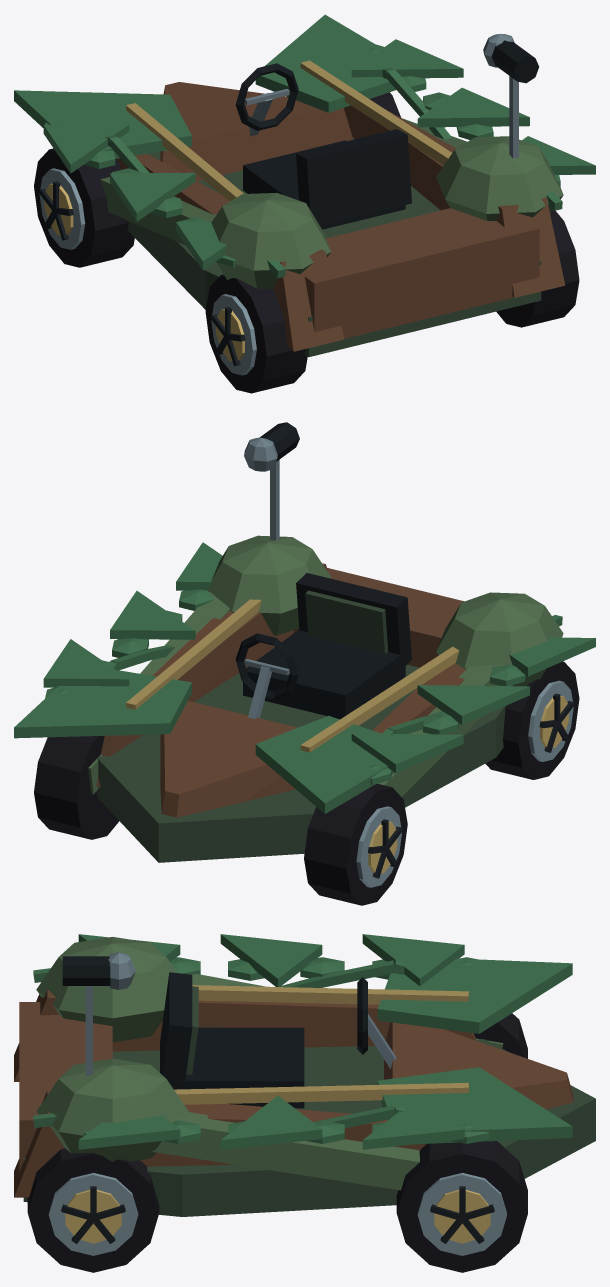
Rendered from kart.glb.
3 views of the same model, one above another, from view 1: azimuth 30°, elevation 25°; view 2: azimuth 150°, elevation 25°; view 3: azimuth 270°, elevation 25° (orthographic). The views are drawn at different scales.
Parts seen in each view (by area): view 1: identity-nature-nature-root-cradle-and-leaf-bow, identity-nature-driver-cockpit, identity-nature-motif-leaves, wheel-rear-left, wheel-front-left, identity-nature-motif-vines, wheel-rear-right, identity-nature-motif-microphone; view 2: identity-nature-nature-root-cradle-and-leaf-bow, identity-nature-driver-cockpit, identity-nature-motif-leaves, wheel-front-left, wheel-rear-left, wheel-front-right, identity-nature-motif-vines, identity-nature-motif-microphone; view 3: identity-nature-nature-root-cradle-and-leaf-bow, identity-nature-motif-leaves, wheel-front-right, wheel-rear-right, identity-nature-driver-cockpit, identity-nature-motif-vines, identity-nature-motif-microphone, wheel-front-left.
Boxes of the visible parts, left/top/right/bottom form: identity-nature-nature-root-cradle-and-leaf-bow: left=14, top=14, right=565, bottom=356; identity-nature-driver-cockpit: left=235, top=63, right=411, bottom=229; identity-nature-motif-leaves: left=43, top=39, right=595, bottom=269; wheel-rear-left: left=205, top=274, right=307, bottom=393; wheel-front-left: left=34, top=148, right=134, bottom=267; identity-nature-motif-vines: left=45, top=44, right=562, bottom=278; wheel-rear-right: left=496, top=210, right=579, bottom=327; identity-nature-motif-microphone: left=483, top=33, right=538, bottom=158; identity-nature-nature-root-cradle-and-leaf-bow: left=14, top=535, right=563, bottom=862; identity-nature-driver-cockpit: left=235, top=573, right=411, bottom=719; identity-nature-motif-leaves: left=43, top=542, right=595, bottom=772; wheel-front-left: left=304, top=783, right=407, bottom=905; wheel-rear-left: left=485, top=661, right=579, bottom=779; wheel-front-right: left=34, top=735, right=119, bottom=839; identity-nature-motif-vines: left=45, top=589, right=562, bottom=785; identity-nature-motif-microphone: left=244, top=422, right=299, bottom=540; identity-nature-nature-root-cradle-and-leaf-bow: left=14, top=937, right=595, bottom=1216; identity-nature-motif-leaves: left=78, top=934, right=464, bottom=1149; wheel-front-right: left=396, top=1141, right=527, bottom=1272; wheel-rear-right: left=27, top=1148, right=159, bottom=1272; identity-nature-driver-cockpit: left=160, top=972, right=395, bottom=1108; identity-nature-motif-vines: left=33, top=957, right=488, bottom=1143; identity-nature-motif-microphone: left=62, top=952, right=135, bottom=1076; wheel-front-left: left=474, top=1013, right=527, bottom=1058.
Size of the model in its own units: 2.3 by 1.57 by 2.75.
